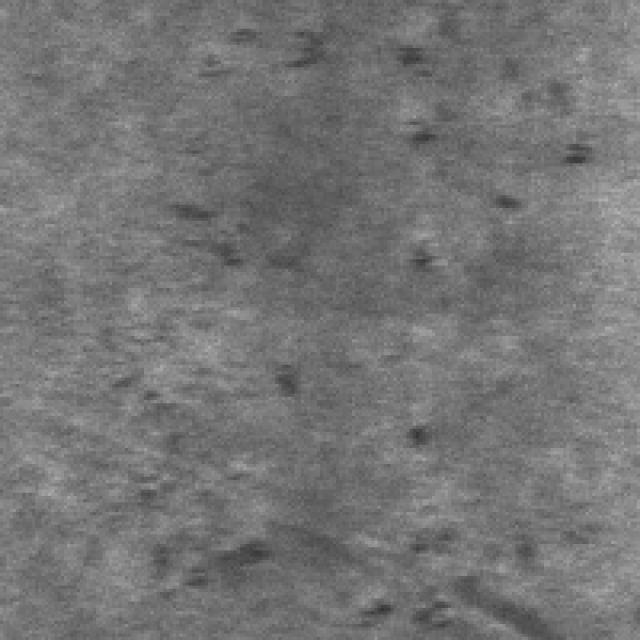rolled-in_scale: (106, 189, 316, 611), (364, 480, 586, 627)
